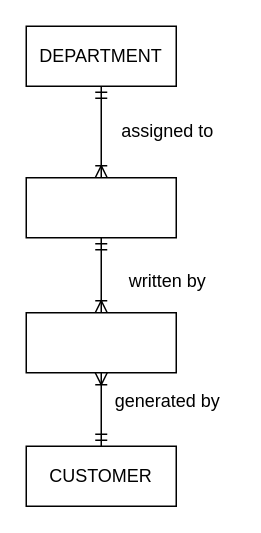
This 261x533 diagram has some shape labels left out. The shapes that lost their labels are listed below. From the top down, each one's box as (x1, y1, x2, y2) in pixels, then its label:
(25, 176, 176, 238): SALES_REP
(25, 311, 176, 373): INVOICE
